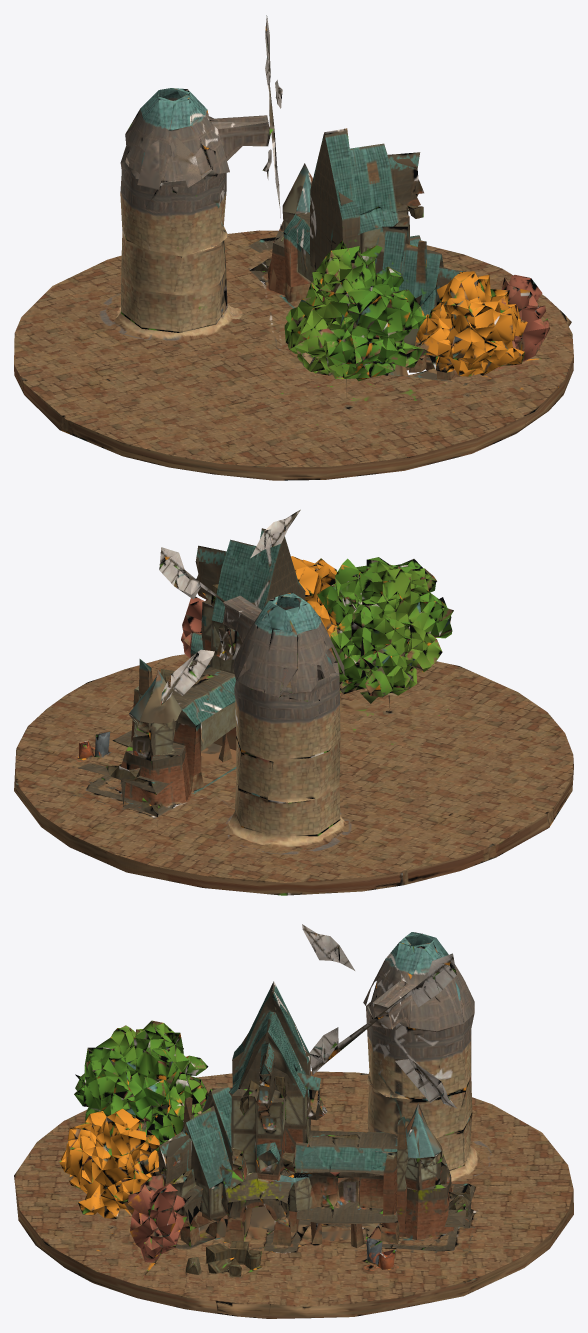
File: SM_StylizedVillage.fbx
The picture shows the model from 3 angles, top to bottom: view 1: azimuth 30°, elevation 25°; view 2: azimuth 150°, elevation 25°; view 3: azimuth 270°, elevation 25°; orthographic projection.
Visible parts, largest first — view 1: SM_StylizedVillage_LOD0; view 2: SM_StylizedVillage_LOD0; view 3: SM_StylizedVillage_LOD0.
Boxes of the visible parts, box(x1,y1,x2,y2) form: SM_StylizedVillage_LOD0: box(14, 15, 573, 480); SM_StylizedVillage_LOD0: box(14, 509, 573, 895); SM_StylizedVillage_LOD0: box(14, 924, 573, 1318).
Size of the model in its own units: 33.13 by 33.16 by 17.94.
